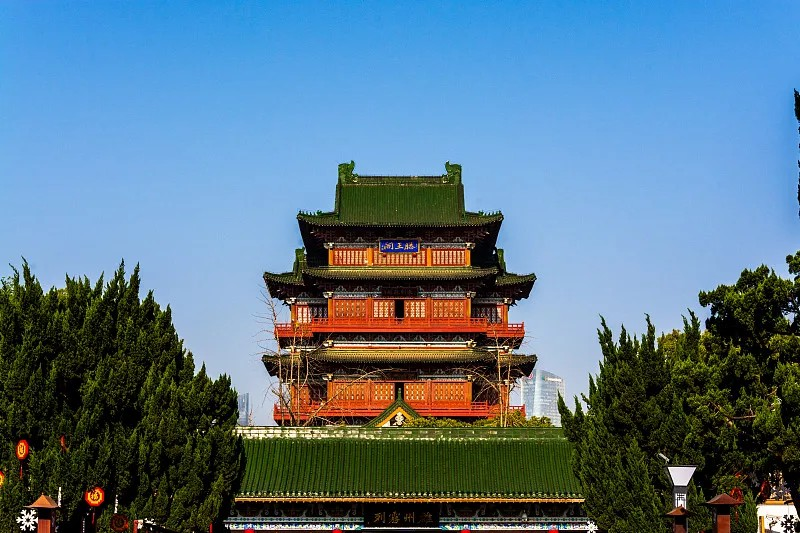Teng: (262, 160, 539, 424)
